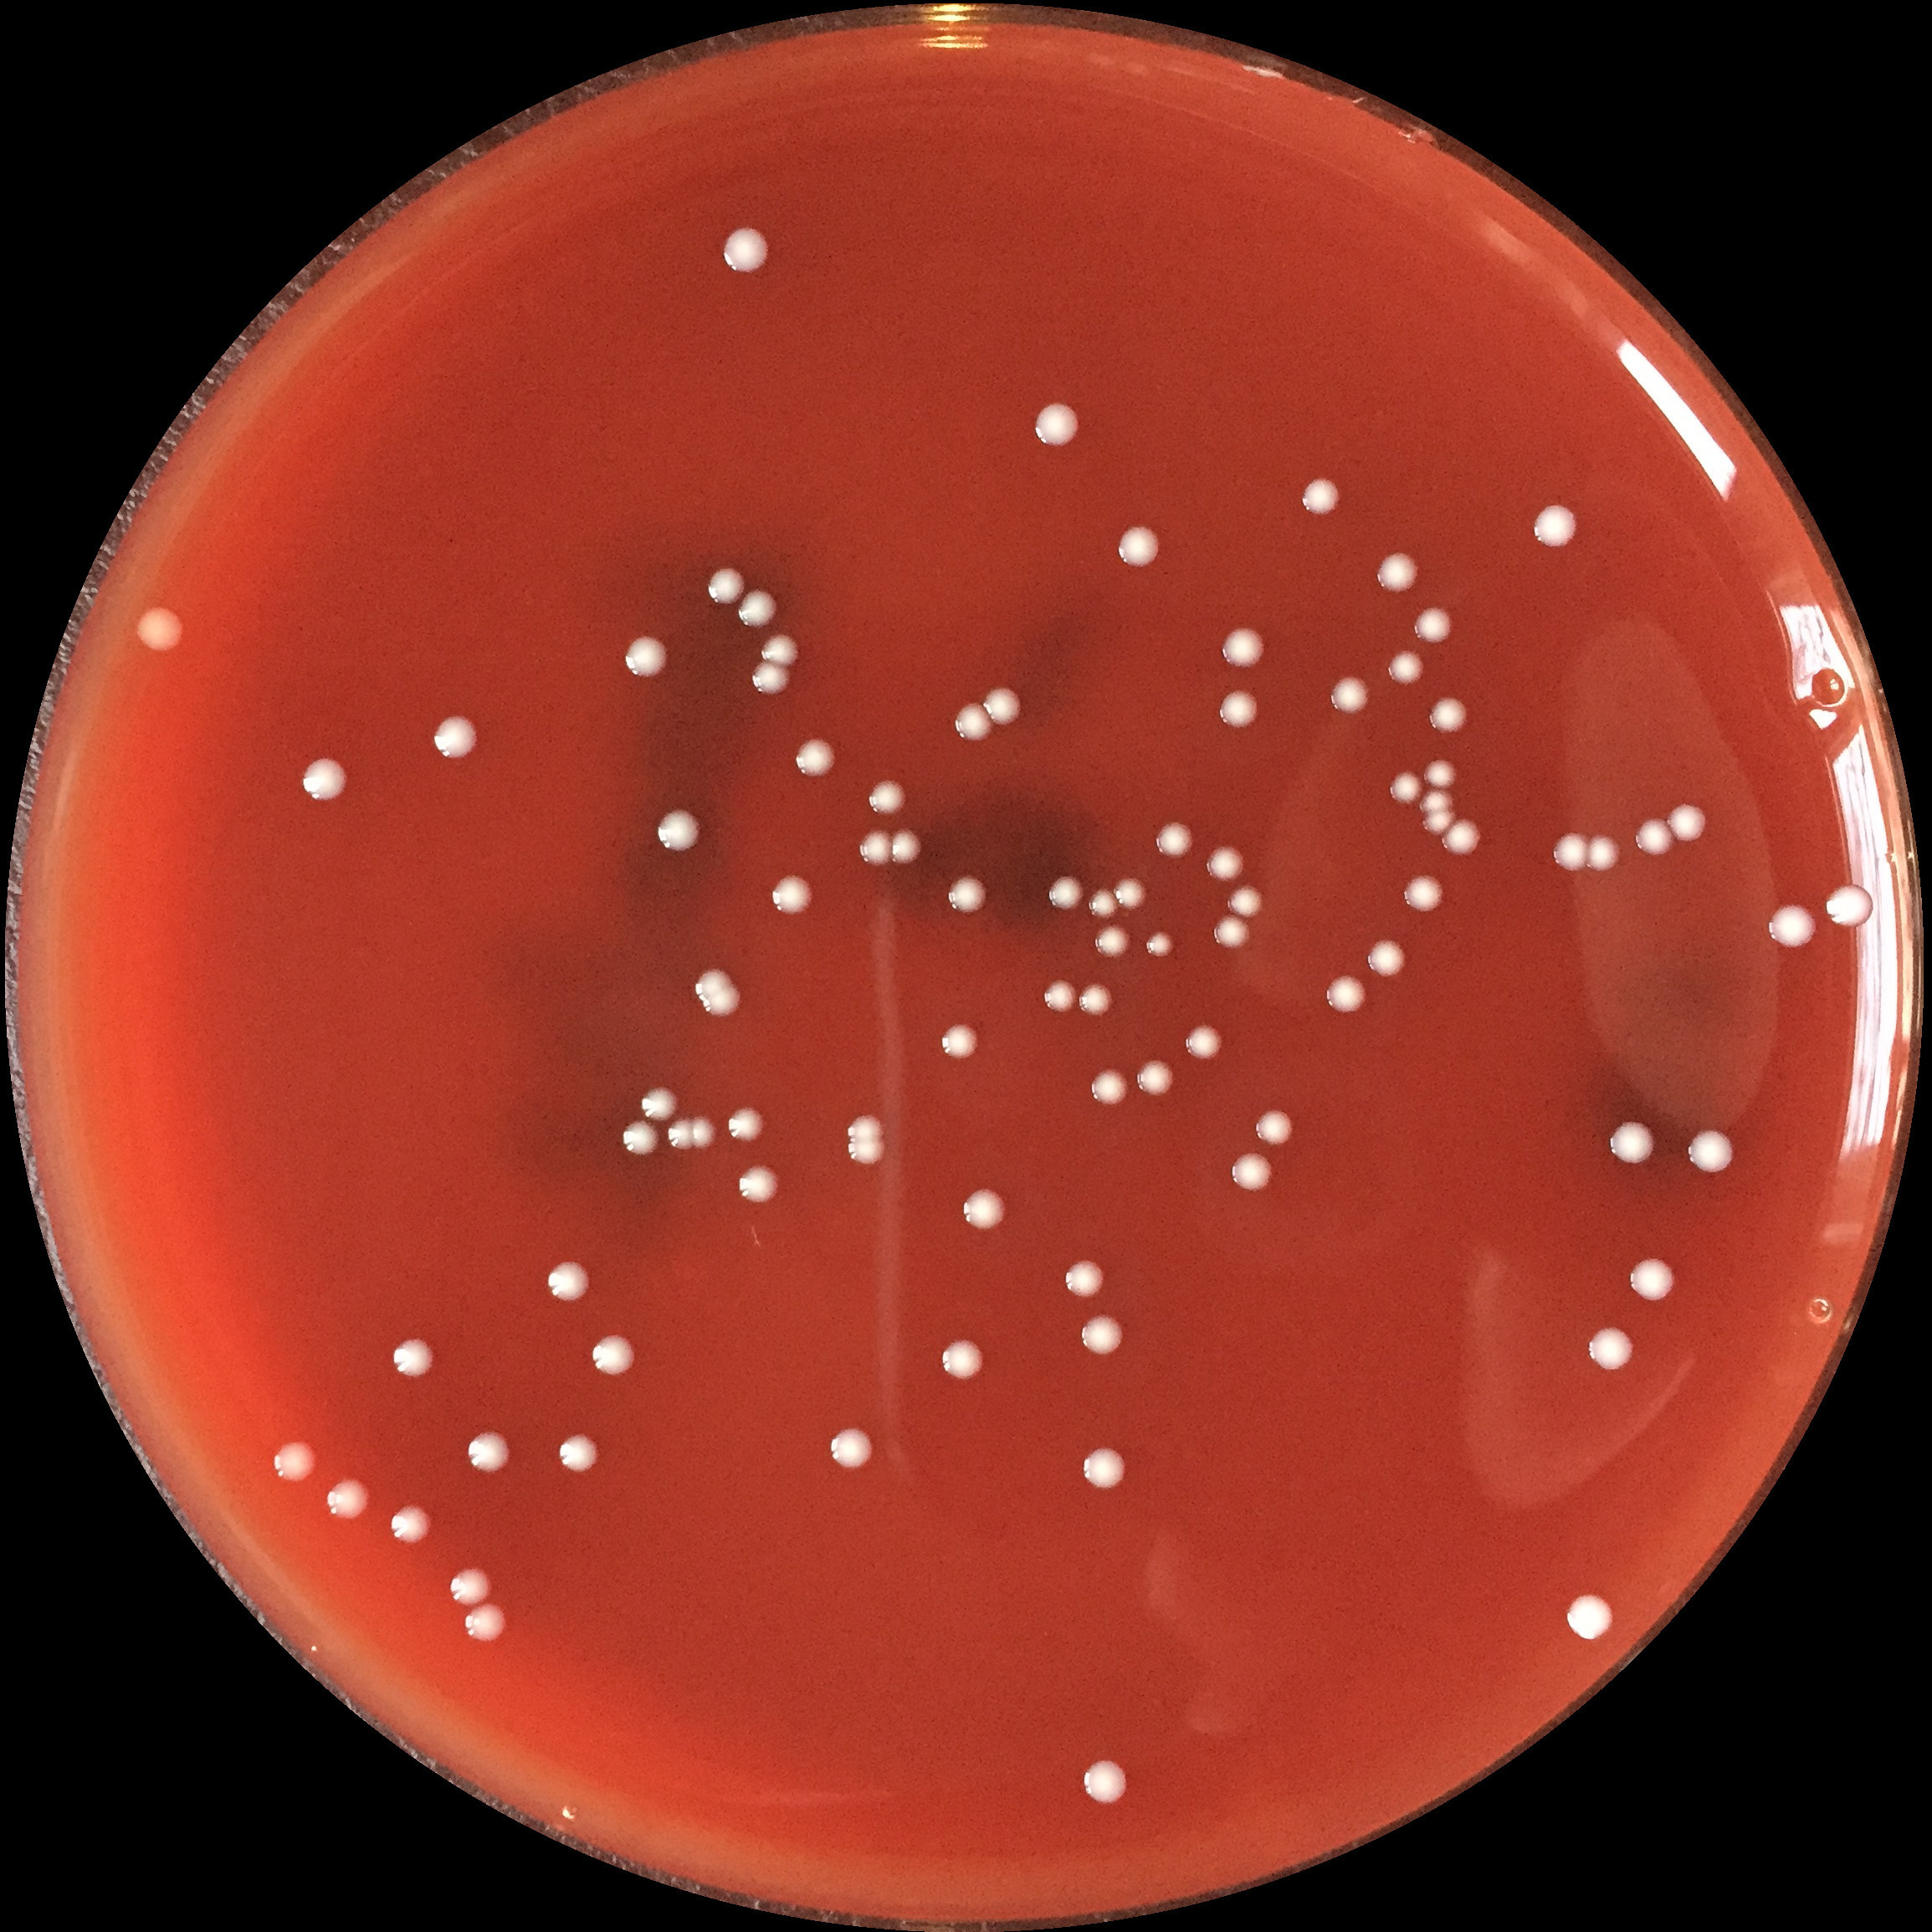sp21: (423, 699, 492, 775), (678, 961, 752, 1026), (134, 594, 200, 669), (649, 796, 706, 874), (1072, 1753, 1136, 1819), (761, 863, 814, 929), (1582, 1322, 1640, 1375), (1031, 400, 1085, 451), (718, 225, 773, 274), (1686, 1127, 1737, 1177), (1626, 1254, 1677, 1304), (1564, 1589, 1614, 1640), (826, 1424, 878, 1474), (1228, 1150, 1281, 1196), (1764, 902, 1817, 948), (1060, 1258, 1109, 1306), (1215, 625, 1267, 671), (272, 1438, 318, 1490), (1322, 672, 1375, 717), (1076, 1315, 1129, 1359), (1113, 522, 1161, 570), (959, 1184, 1007, 1231), (1606, 1118, 1656, 1164), (623, 632, 669, 681), (952, 695, 998, 745), (1529, 502, 1580, 547), (1079, 1447, 1132, 1490), (589, 1330, 635, 1378), (1824, 883, 1874, 927), (464, 1431, 515, 1474), (462, 1601, 510, 1645), (301, 754, 345, 801), (938, 1336, 987, 1378), (541, 1261, 591, 1304), (1322, 973, 1368, 1017), (387, 1336, 435, 1378), (556, 1431, 603, 1474), (324, 1476, 372, 1518), (732, 1164, 784, 1203), (1412, 603, 1456, 648), (1382, 646, 1426, 690), (1182, 1021, 1226, 1065), (1086, 1065, 1131, 1109), (1214, 686, 1260, 729), (1665, 801, 1711, 844), (977, 685, 1023, 727), (791, 734, 837, 777), (1399, 874, 1447, 915), (448, 1566, 495, 1606), (635, 1083, 685, 1122), (1375, 548, 1417, 593), (1633, 816, 1675, 860), (1254, 1104, 1299, 1146), (734, 582, 777, 626), (616, 1120, 667, 1155), (743, 660, 794, 695), (1364, 936, 1407, 978), (1134, 1054, 1177, 1097), (389, 1502, 432, 1545), (1299, 476, 1343, 517), (1424, 694, 1465, 736), (1442, 817, 1484, 858), (1150, 819, 1192, 860), (1205, 842, 1246, 885), (1044, 870, 1086, 911), (704, 566, 747, 607), (1212, 913, 1253, 954), (725, 1104, 766, 1145), (1550, 830, 1589, 872), (939, 1021, 982, 1060), (757, 632, 801, 669), (865, 780, 911, 816), (1076, 980, 1116, 1019), (947, 874, 987, 913), (1040, 977, 1079, 1016), (853, 828, 893, 865), (1226, 883, 1267, 918), (1387, 768, 1424, 805), (1585, 833, 1622, 870), (1422, 754, 1458, 793), (885, 828, 924, 863), (1095, 922, 1131, 959), (667, 1116, 701, 1154), (688, 1115, 722, 1152), (1113, 876, 1146, 911), (846, 1109, 883, 1141), (1086, 886, 1122, 918), (847, 1136, 885, 1166), (1145, 929, 1177, 961), (1422, 809, 1458, 837), (1417, 787, 1454, 814)
